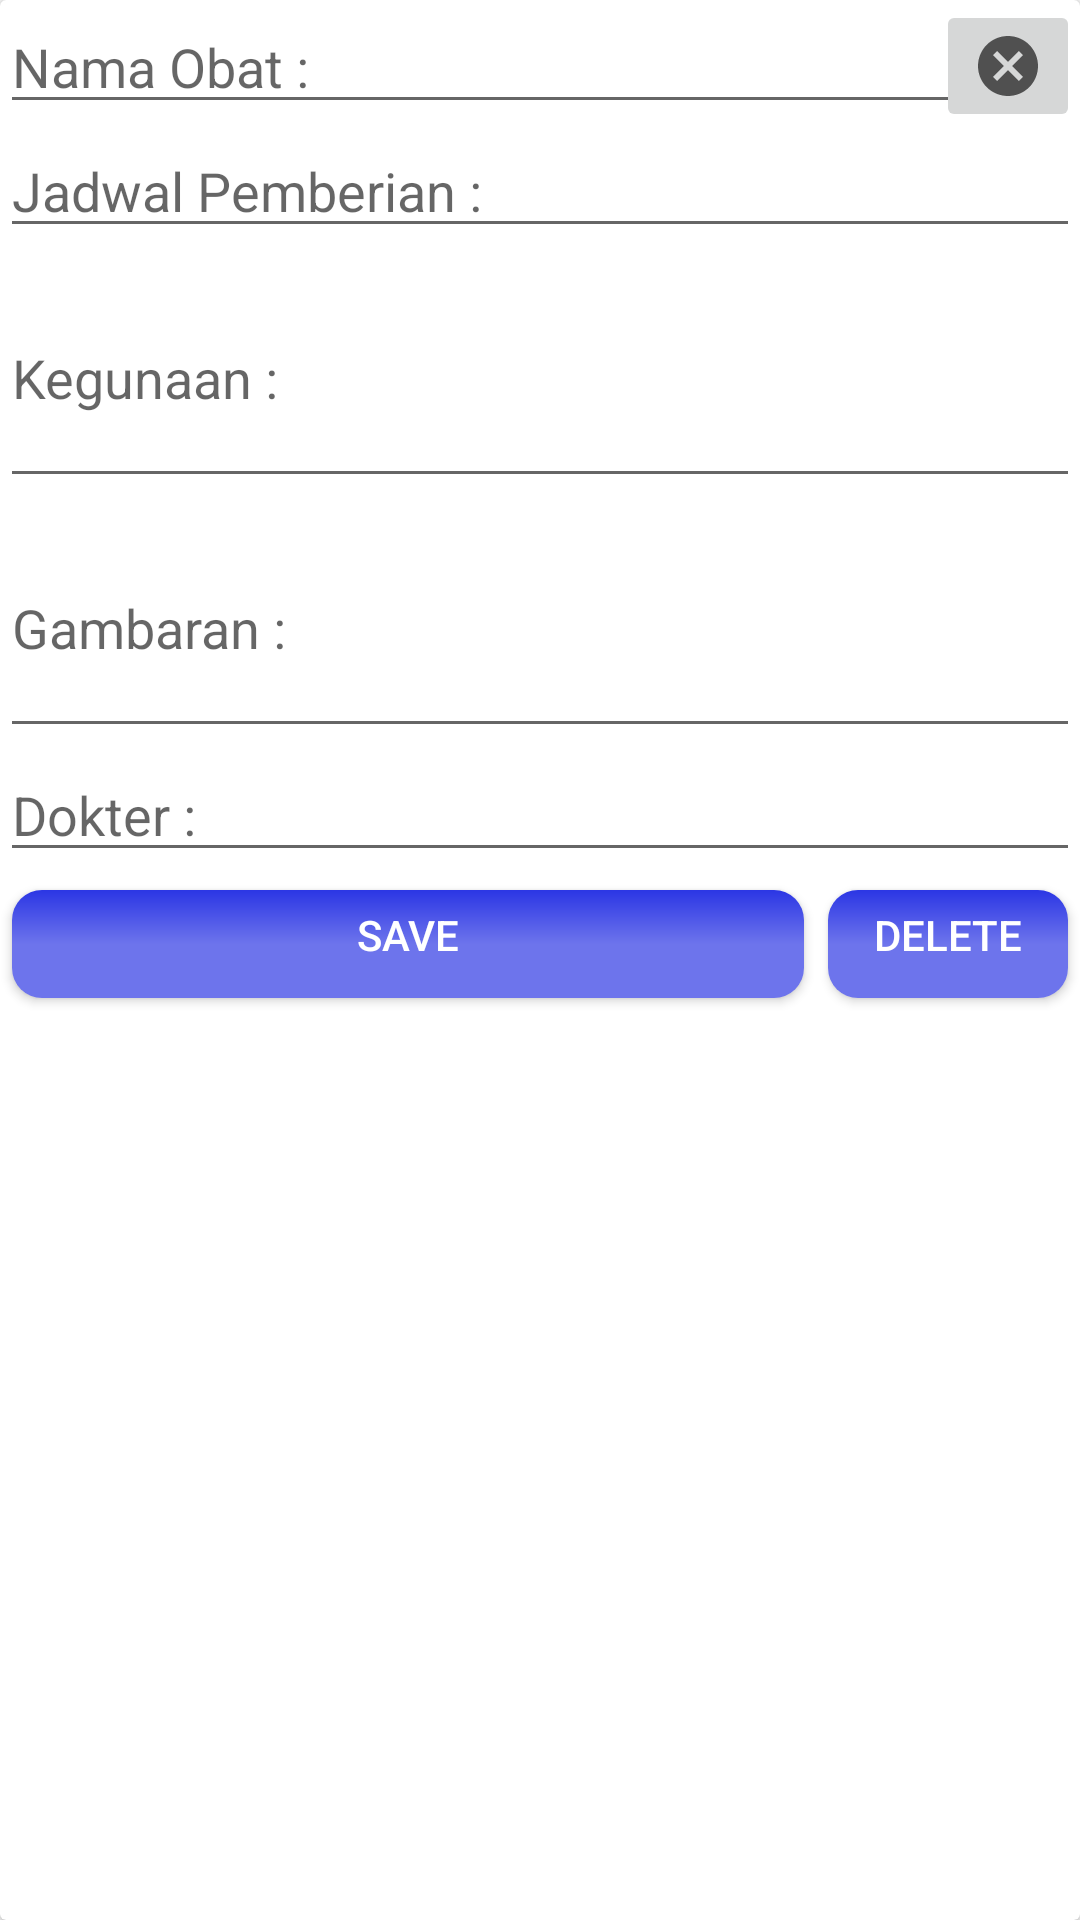

Where icons sit on this 1080 x 1920 app screen, as (x1, y1, x2, y2):
cancel: (936, 0, 1080, 114)
